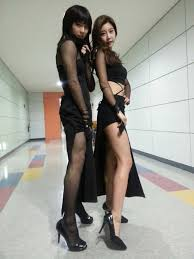people: (93, 15, 133, 249), (57, 6, 93, 252)
